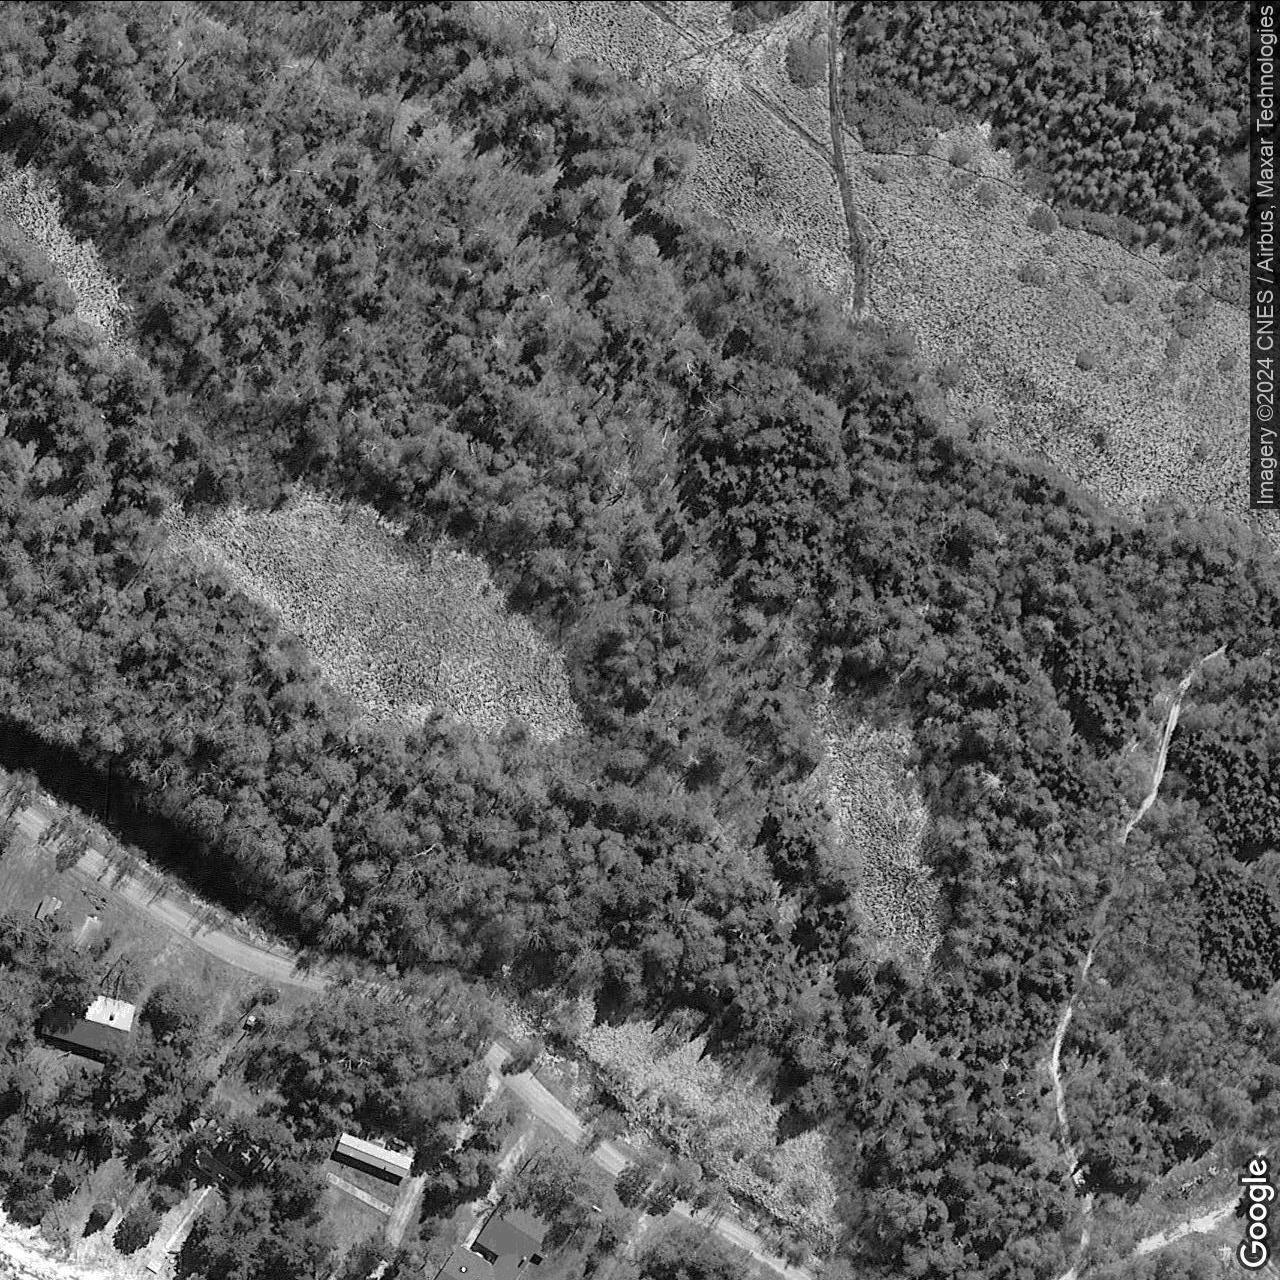House: (431, 1182, 559, 1280), (41, 980, 138, 1057)
Trailer: (335, 1131, 415, 1179)
